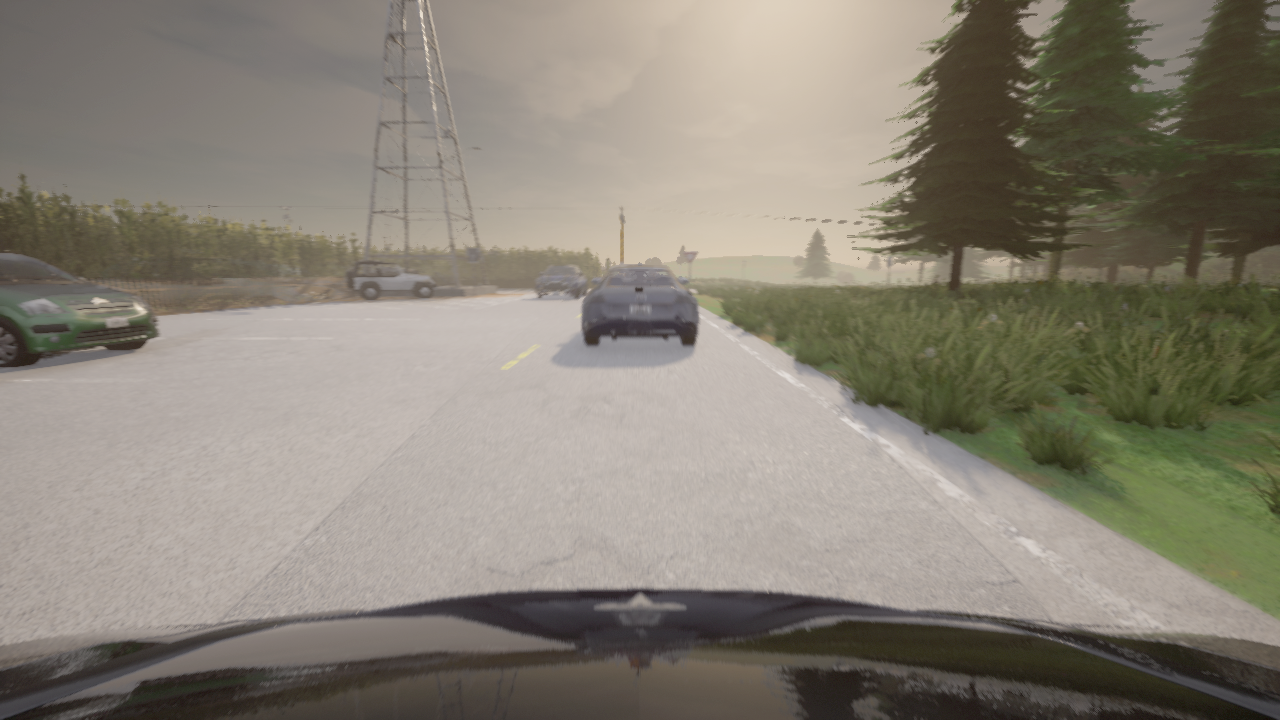cyclist: (0, 588, 1279, 719), (581, 265, 698, 345), (346, 260, 437, 300), (535, 264, 586, 298), (335, 268, 419, 274)
